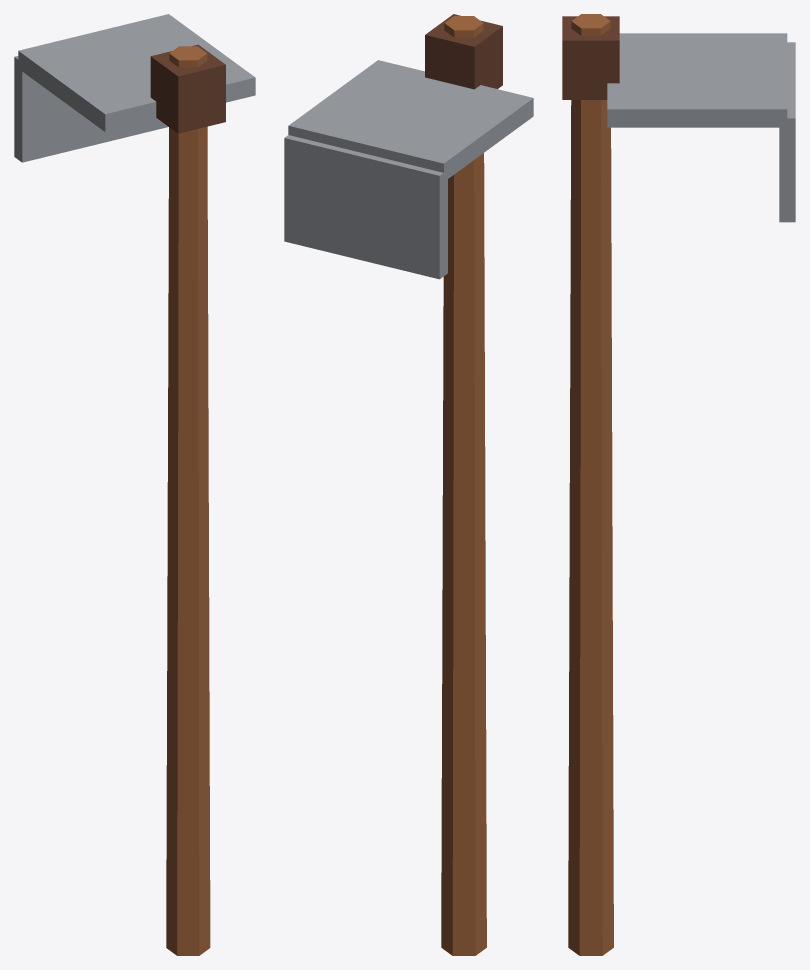
The model's file is Tool_Hoe.fbx.
3 renders of one model, left to right at view 1: azimuth 30°, elevation 25°; view 2: azimuth 150°, elevation 25°; view 3: azimuth 270°, elevation 25°, orthographic. The views are drawn at different scales.
Visible parts, largest first — view 1: Tool_Hoe; view 2: Tool_Hoe; view 3: Tool_Hoe.
Part boxes in pixels (x1,y1,x2,y2): Tool_Hoe: [14, 14, 255, 955]; Tool_Hoe: [284, 14, 533, 955]; Tool_Hoe: [562, 14, 795, 955].
Bounding box in the file's own units: 0.22 × 1.25 × 0.285.
